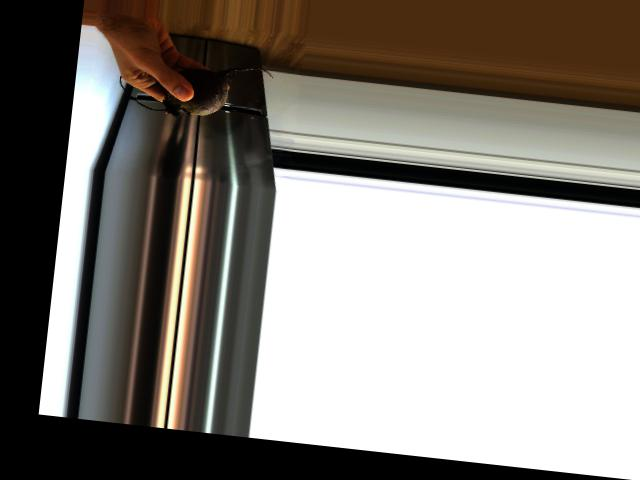beet: (116, 52, 275, 126)
